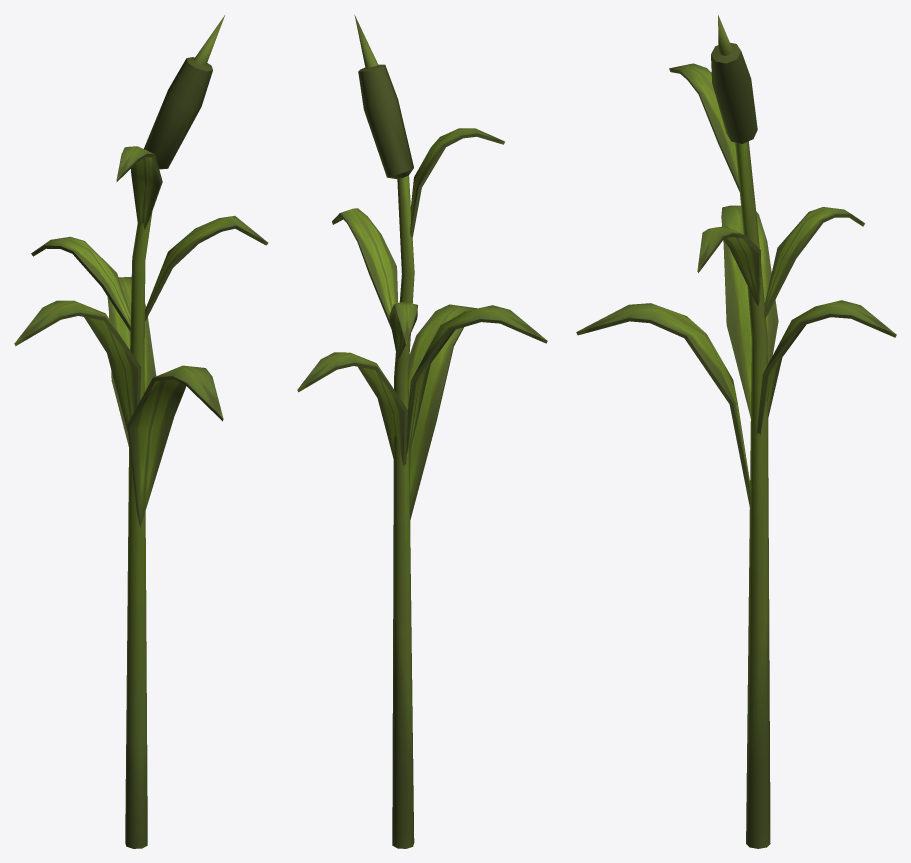
Rendered from SM_Reed1.fbx.
3 views of the same model, side by side, from view 1: azimuth 30°, elevation 25°; view 2: azimuth 150°, elevation 25°; view 3: azimuth 270°, elevation 25° (orthographic). The views are drawn at different scales.
Parts seen in each view (by area): view 1: SM_Reed1; view 2: SM_Reed1; view 3: SM_Reed1.
Part boxes in pixels (<box>): SM_Reed1: <box>14,15,268,848</box>; SM_Reed1: <box>297,15,547,848</box>; SM_Reed1: <box>576,15,896,848</box>.
Size of the model in its own units: 184 by 608 by 204.
